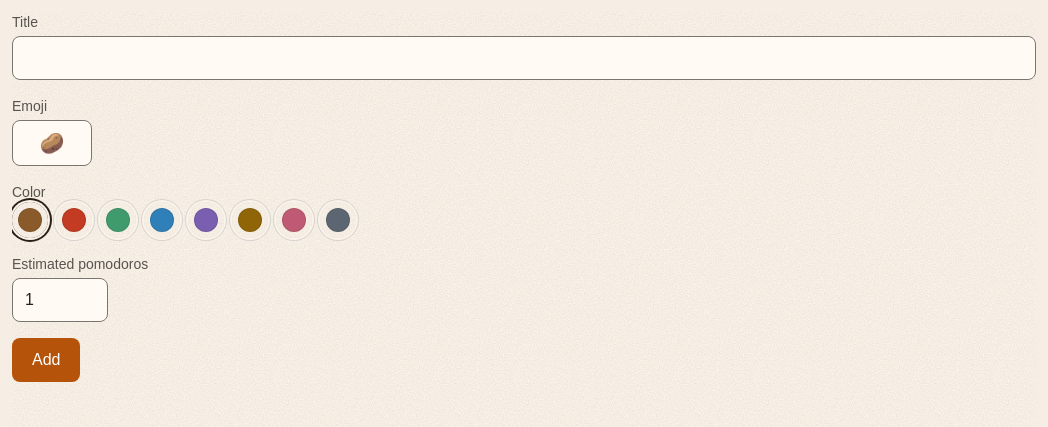
Scenario: TaskForm › validation error display › displays error for empty title
Click the button "Add".
click(46, 360)  # box [12,338,80,382]
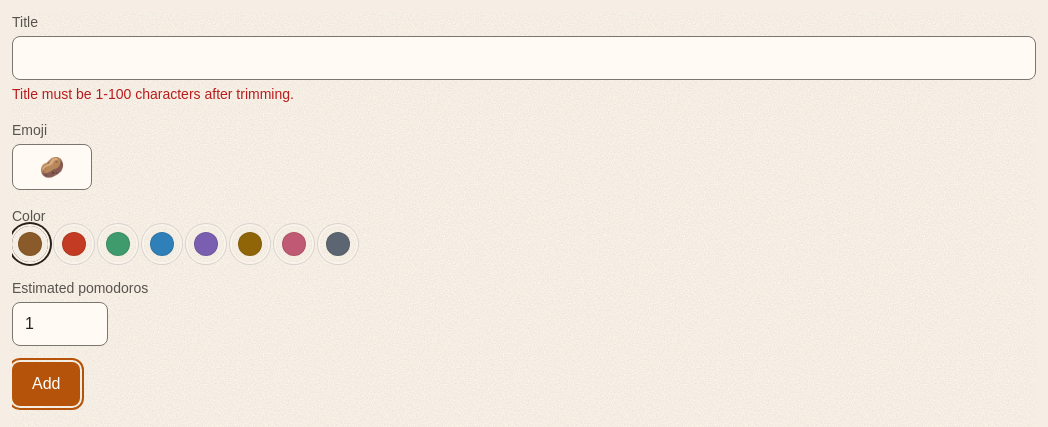
Check: the message "Title must be 1-100 characters after trimming." is shown, box [12,86,294,102]
